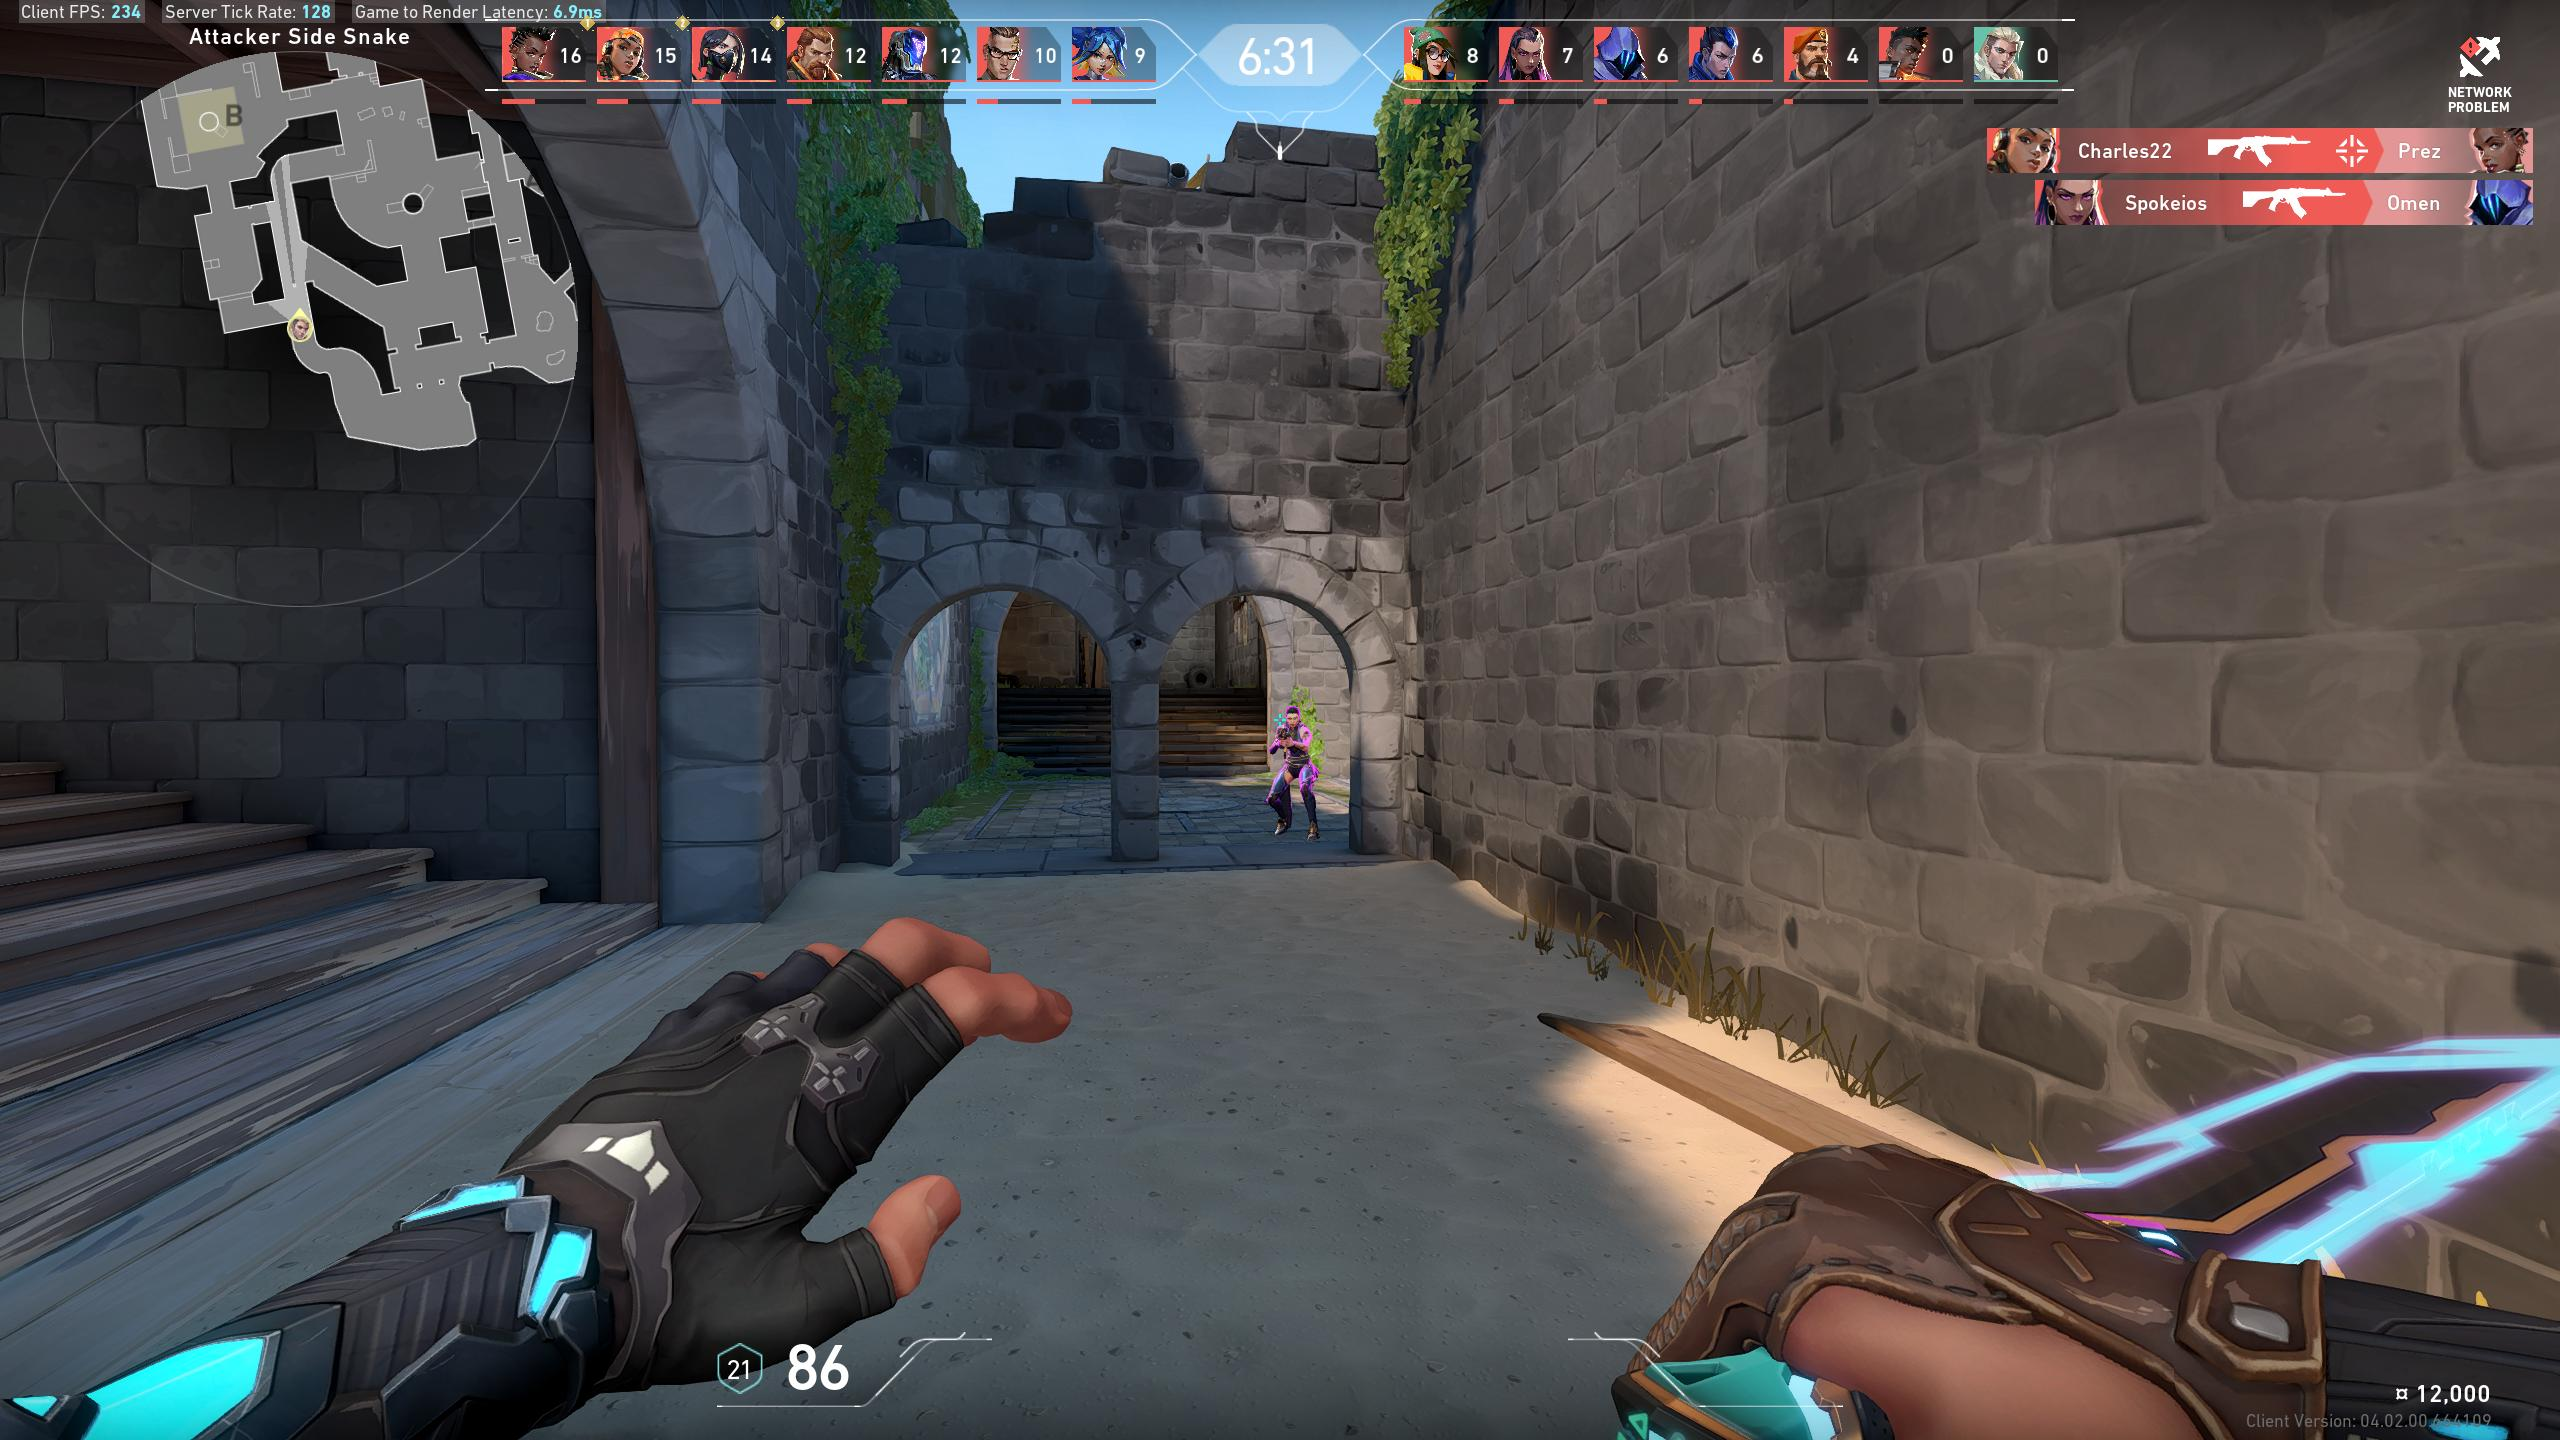enemyBody: (1289, 731, 1303, 760)
enemyHead: (1289, 714, 1298, 726)
